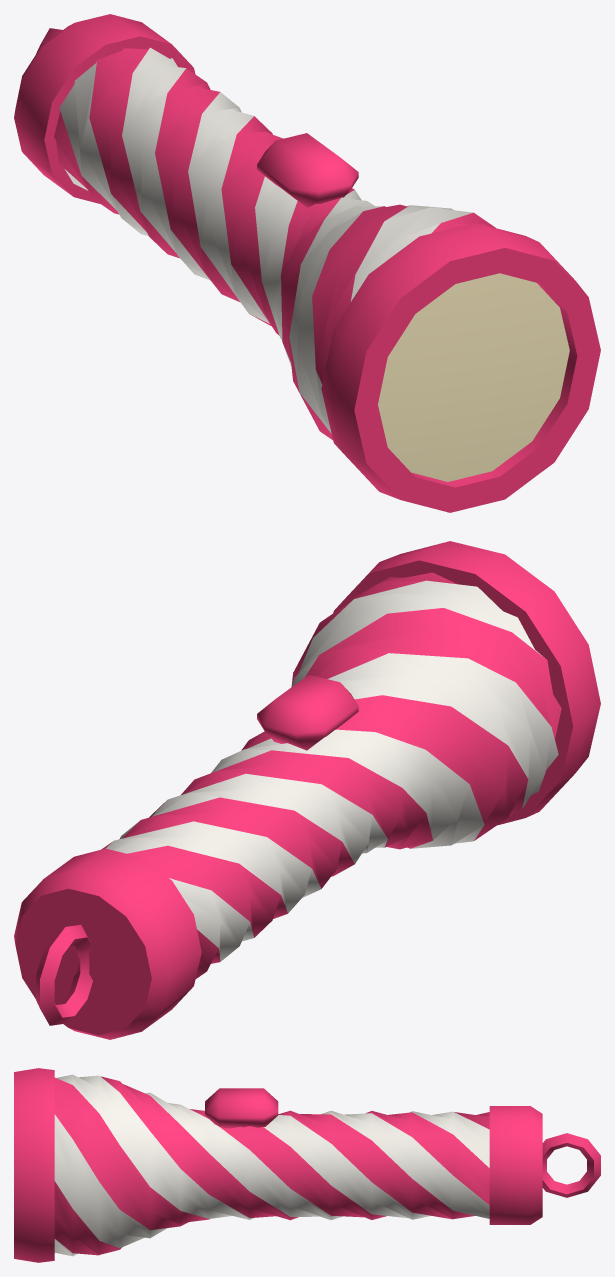
File: Cosmetic_Flashlight_Striped.fbx
3 renders of one model, top to bottom at view 1: azimuth 30°, elevation 25°; view 2: azimuth 150°, elevation 25°; view 3: azimuth 270°, elevation 25°, orthographic. The views are drawn at different scales.
Visible parts, largest first — view 1: Bezel, Lens, Body, Stripes, Grip; view 2: Body, Stripes, Grip, Bezel; view 3: Body, Stripes, Grip, Bezel.
Part boxes in pixels (<box>): Bezel: <box>321,223,600,512</box>; Lens: <box>378,273,569,481</box>; Body: <box>59,47,472,433</box>; Stripes: <box>54,48,495,439</box>; Grip: <box>14,14,358,207</box>; Body: <box>105,580,558,961</box>; Stripes: <box>101,572,561,978</box>; Grip: <box>14,674,358,1039</box>; Bezel: <box>333,541,600,825</box>; Body: <box>54,1074,489,1256</box>; Stripes: <box>54,1076,489,1255</box>; Grip: <box>205,1088,600,1224</box>; Bezel: <box>14,1068,54,1262</box>.
Bounding box in the file's own units: 49 × 47.77 × 144.
